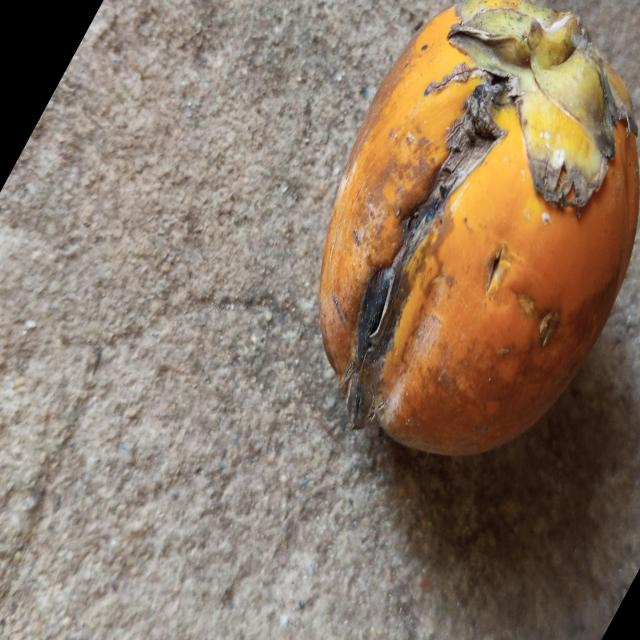damaged: (318, 0, 640, 460)
